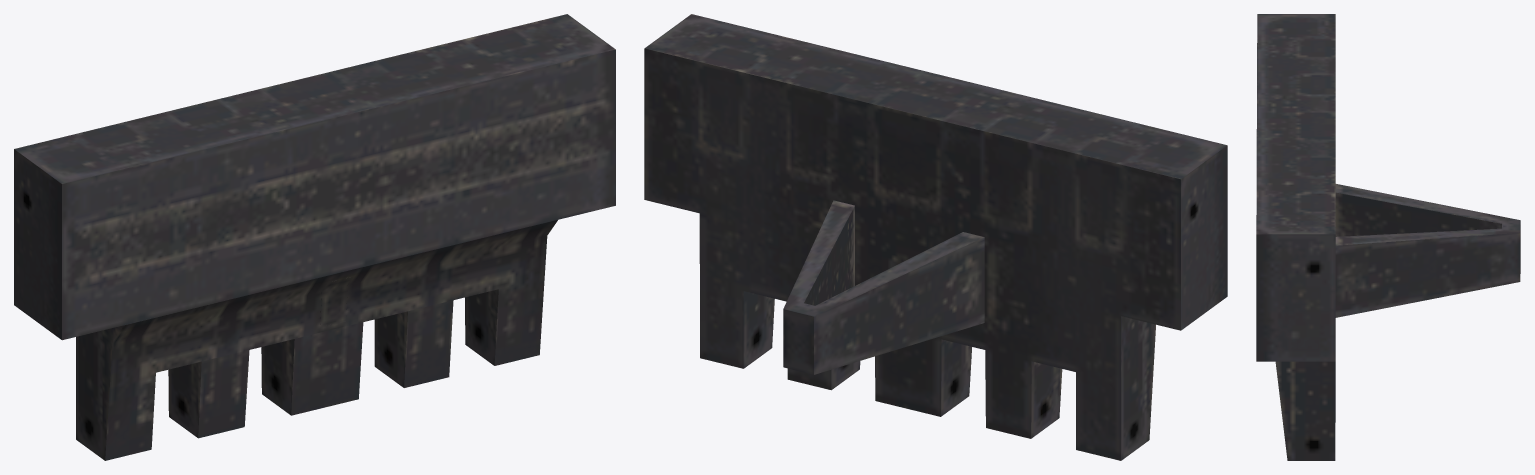
The picture shows the model from 3 angles, left to right: view 1: azimuth 30°, elevation 25°; view 2: azimuth 150°, elevation 25°; view 3: azimuth 270°, elevation 25°; orthographic projection. The views are drawn at different scales.
Visible parts, largest first — view 1: set_0_group_0; view 2: set_0_group_0; view 3: set_0_group_0.
Part boxes in pixels (x1,y1,x2,y2): set_0_group_0: (14, 14, 615, 460); set_0_group_0: (644, 14, 1227, 460); set_0_group_0: (1256, 14, 1520, 460).
Size of the model in its own units: 0.2448 by 0.1292 by 0.124.
Materials: 1 (1 with a texture image).
